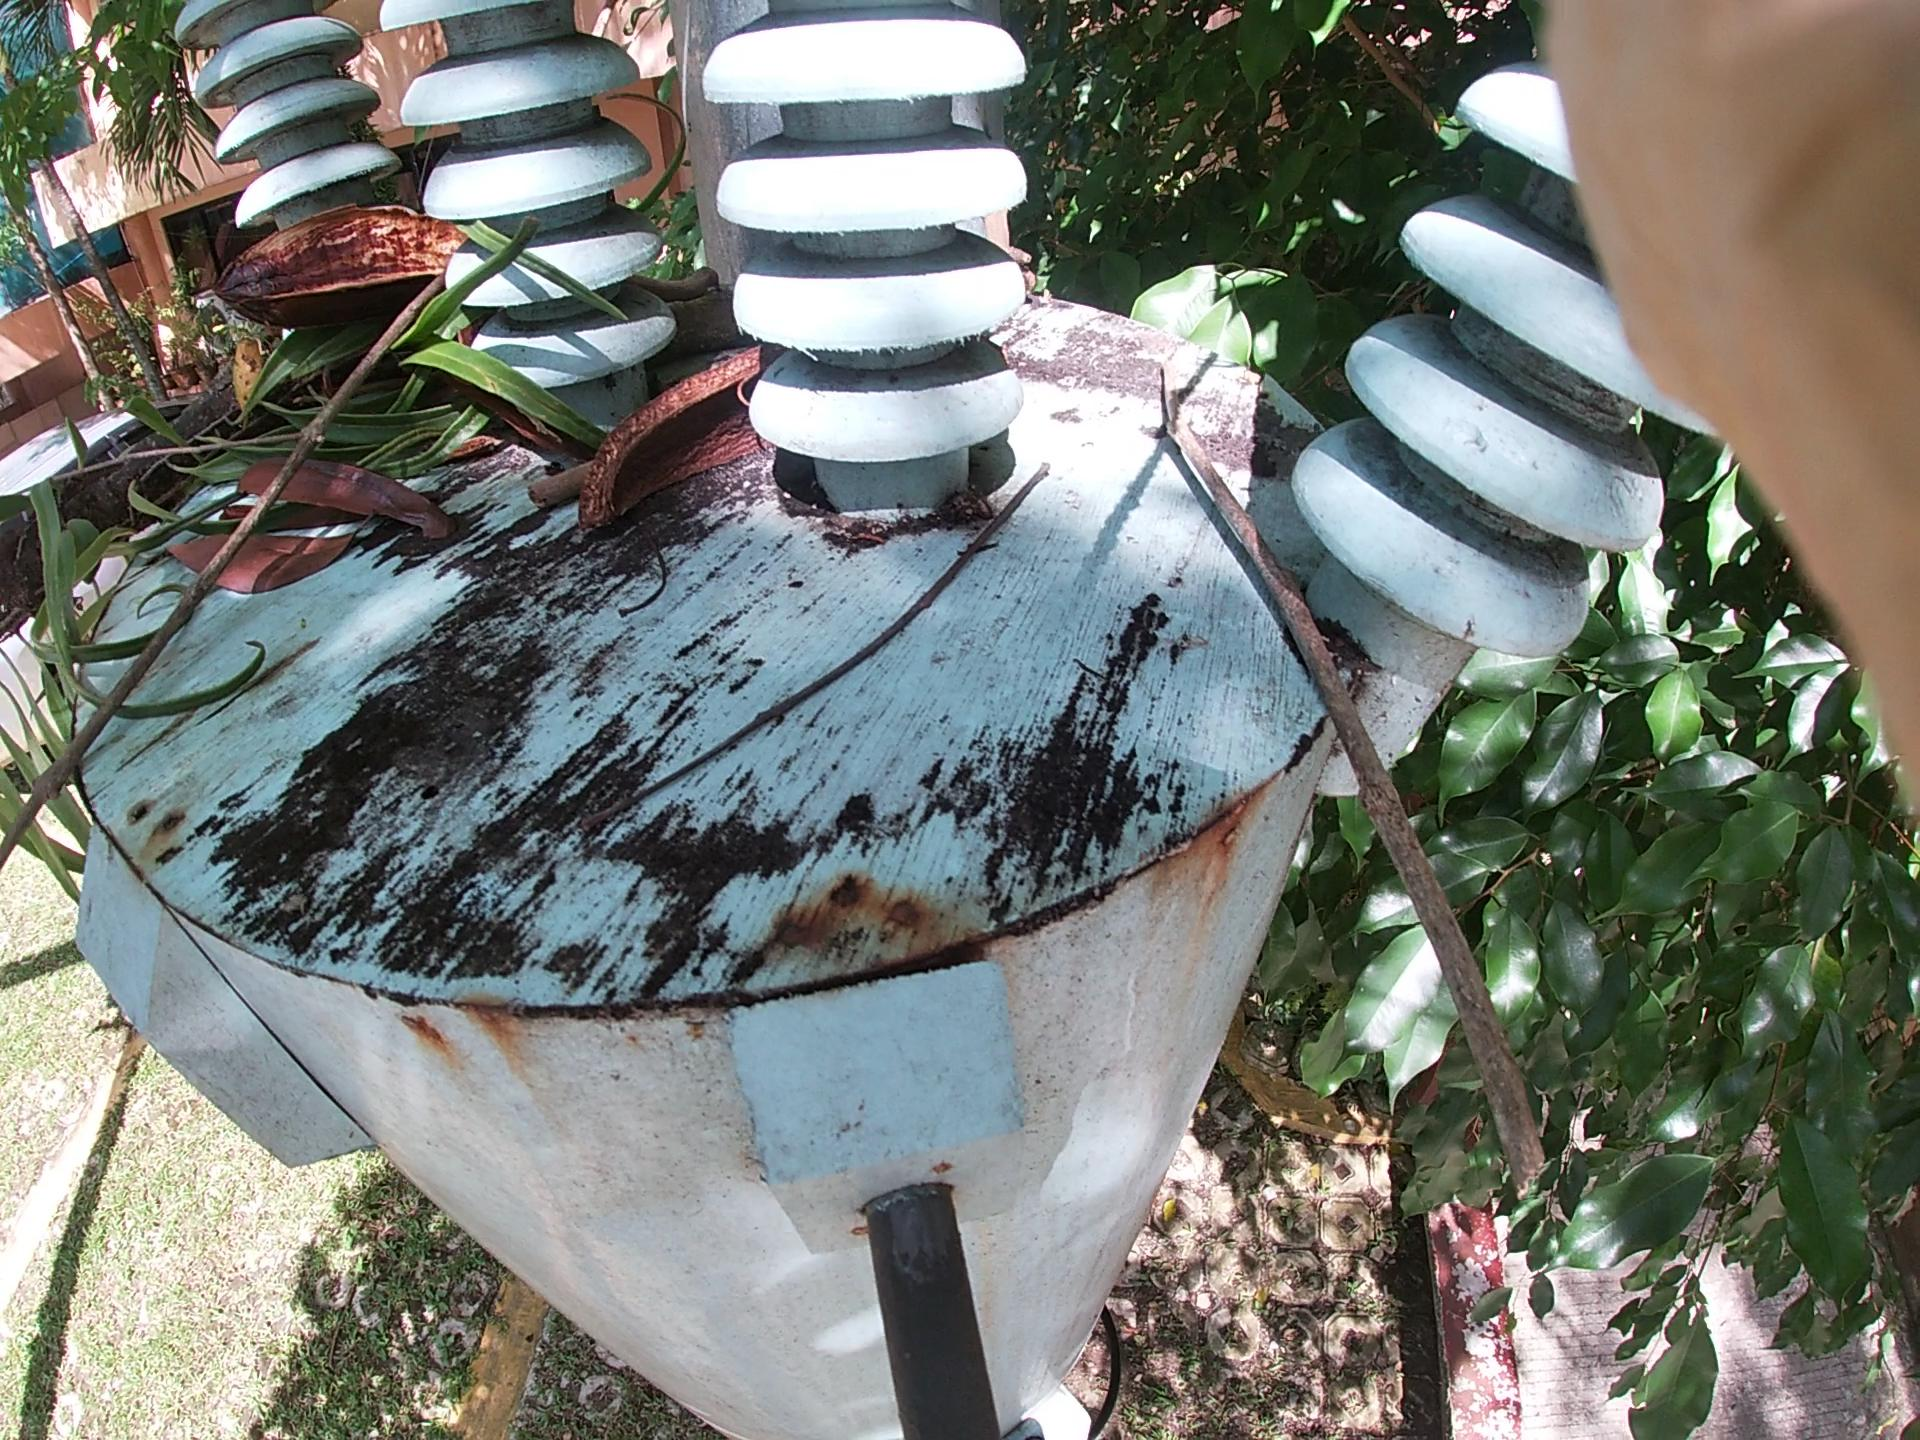branch with leaves: (82, 97, 655, 611)
leaf: (210, 464, 343, 691)
mahogany fruit: (552, 244, 859, 591), (201, 171, 562, 371)
tree branch: (488, 160, 1379, 549), (1160, 380, 1625, 1091), (91, 154, 454, 787), (597, 427, 1073, 852)
